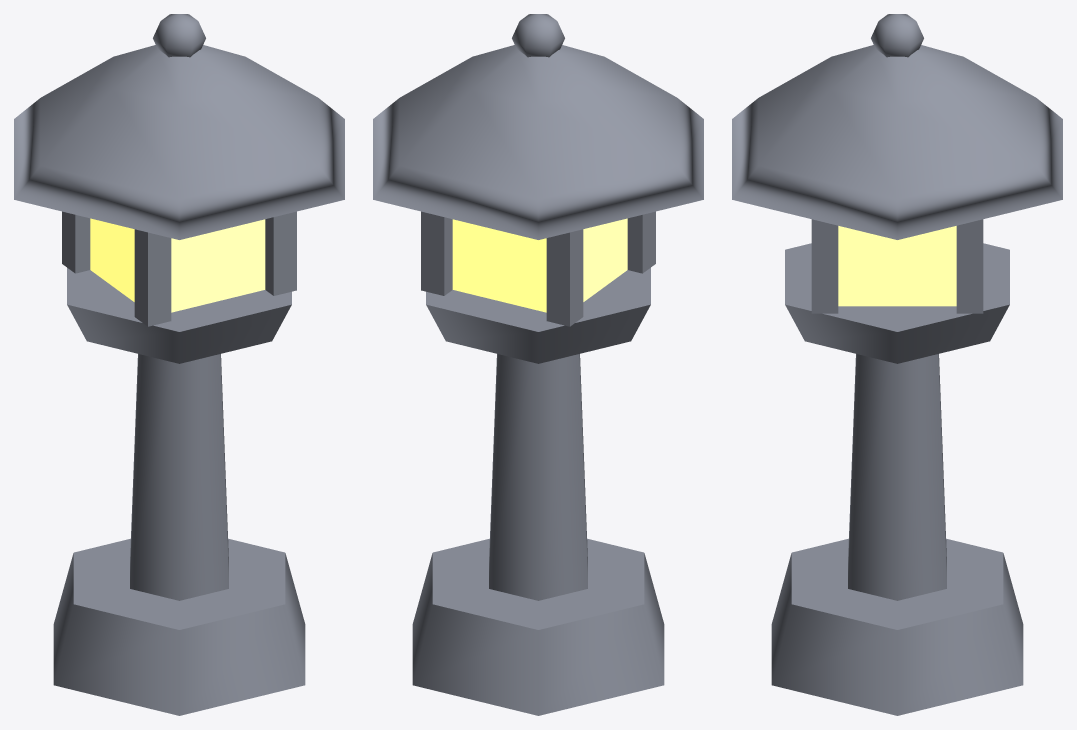
Rendered from lantern.glb.
3 views of the same model, side by side, from view 1: azimuth 30°, elevation 25°; view 2: azimuth 150°, elevation 25°; view 3: azimuth 270°, elevation 25° (orthographic).
Parts seen in each view (by area): view 1: Stone_9095A2, Glow_FFD9A0; view 2: Stone_9095A2, Glow_FFD9A0; view 3: Stone_9095A2, Glow_FFD9A0.
Part boxes in pixels (left/top/right/bottom): Stone_9095A2: left=14, top=14, right=344, bottom=715; Glow_FFD9A0: left=90, top=218, right=265, bottom=312; Stone_9095A2: left=373, top=14, right=703, bottom=715; Glow_FFD9A0: left=452, top=218, right=627, bottom=312; Stone_9095A2: left=732, top=14, right=1062, bottom=715; Glow_FFD9A0: left=838, top=226, right=956, bottom=306.
Bounding box in the file's own units: 3.57 × 6.61 × 3.09.
